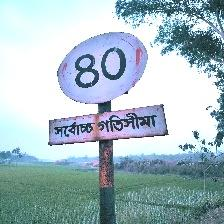Speed-limit: (50, 30, 165, 145)
